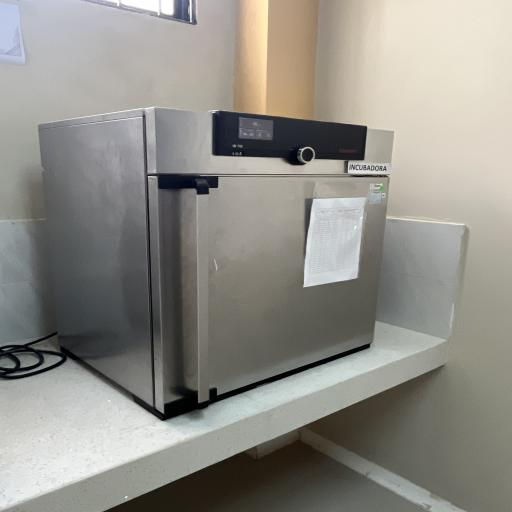Incubadora: (26, 104, 406, 431)
